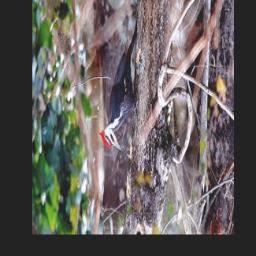Woodpecker: (96, 17, 139, 153)
